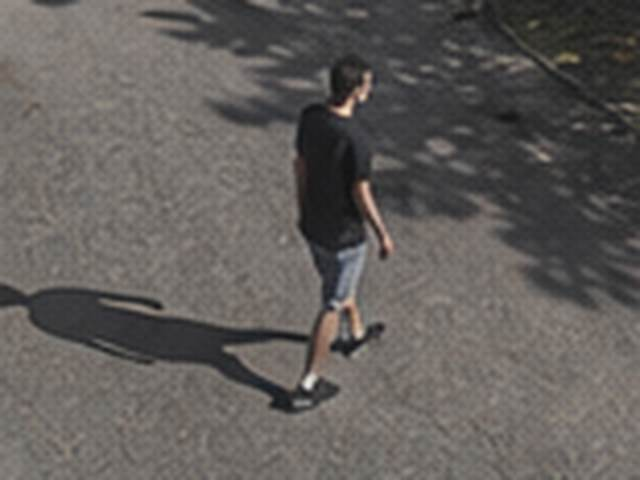suv: (290, 54, 394, 409)
